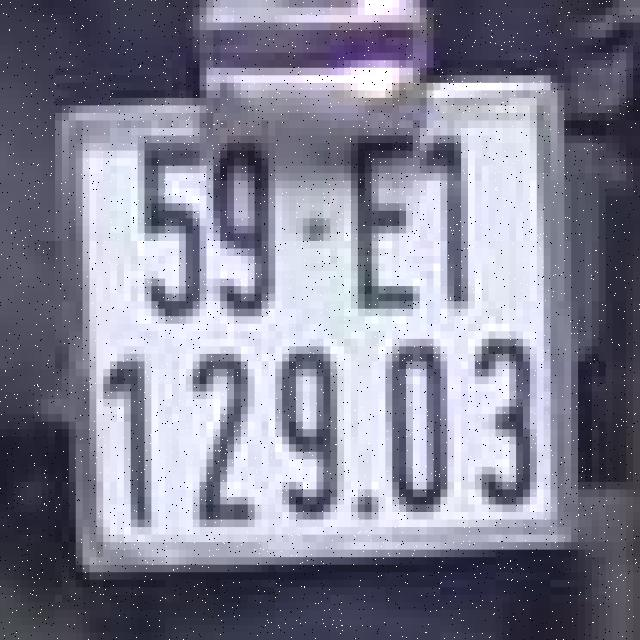0: (372, 327, 454, 546)
1: (100, 338, 168, 550), (423, 124, 485, 320)
2: (186, 342, 261, 538)
3: (468, 301, 564, 527)
5: (120, 128, 210, 339)
9: (261, 331, 351, 542), (213, 124, 289, 320)
E: (330, 116, 420, 328)
